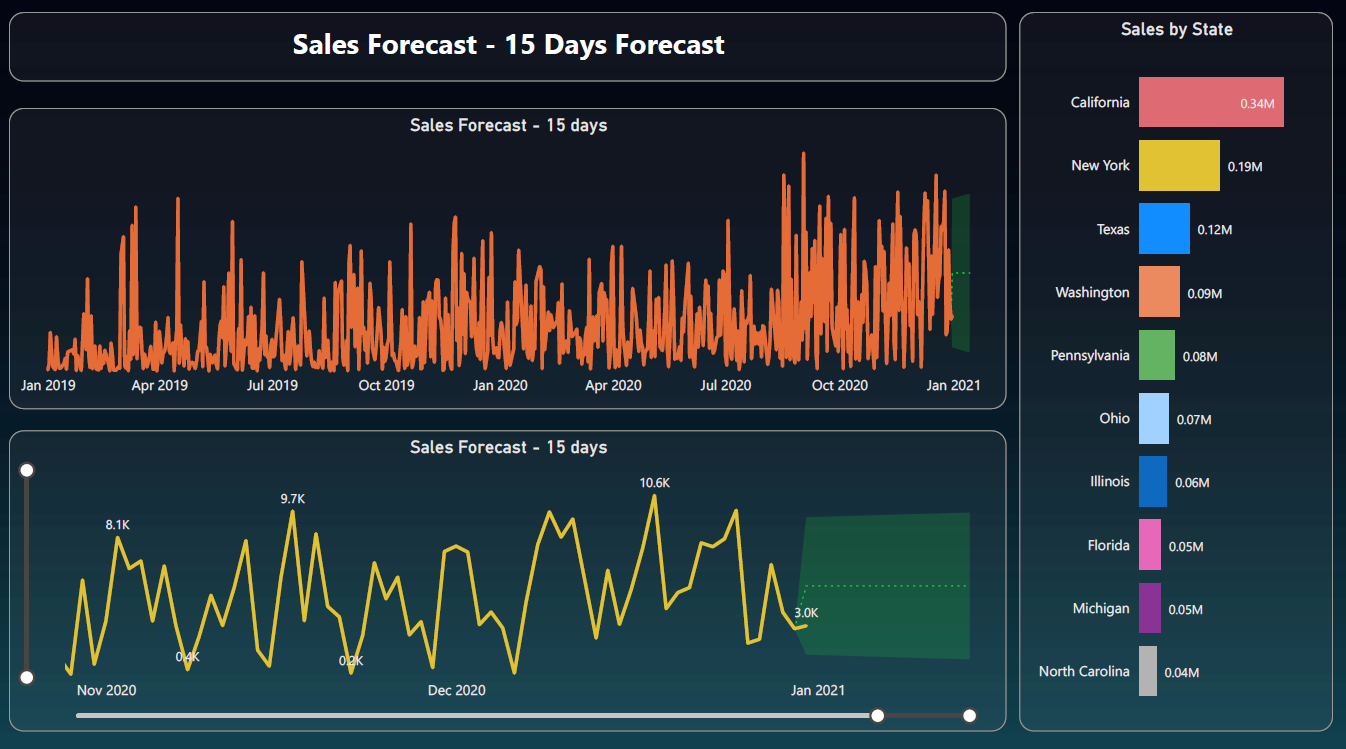

The page's visual inventory and layout, read from the dashboard file:
{"tool":"powerbi","page":{"name":"Forecast","canvas":[1280,720],"ordinal":1},"visuals":[{"type":"lineChart","title":"Sales Forecast - 15 days","fields":{"Y":["Sum(SuperStore_Sales_Dataset.Sales)"],"Category":["SuperStore_Sales_Dataset.Order Date"]},"box":[11,105,947,286],"z":0},{"type":"lineChart","title":"Sales Forecast - 15 days","fields":{"Y":["Sum(SuperStore_Sales_Dataset.Sales)"],"Category":["SuperStore_Sales_Dataset.Order Date"]},"box":[11,411,947,286],"z":1000},{"type":"textbox","box":[11,14,947,66],"z":2000},{"type":"clusteredBarChart","title":"Sales by State","fields":{"Y":["Sum(SuperStore_Sales_Dataset.Sales)"],"Category":["SuperStore_Sales_Dataset.State"]},"box":[970,14,298,683],"z":3000}]}

Visuals, with their boxes in screenshot pixels (x1, y1, x2, y2), scaled from the page's 1280x720 canvas onto the 1346x749 screenshot:
"Sales Forecast - 15 days" lineChart: locate(12, 109, 1007, 407)
"Sales Forecast - 15 days" lineChart: locate(12, 428, 1007, 725)
textbox: locate(12, 15, 1007, 83)
"Sales by State" clusteredBarChart: locate(1020, 15, 1333, 725)
